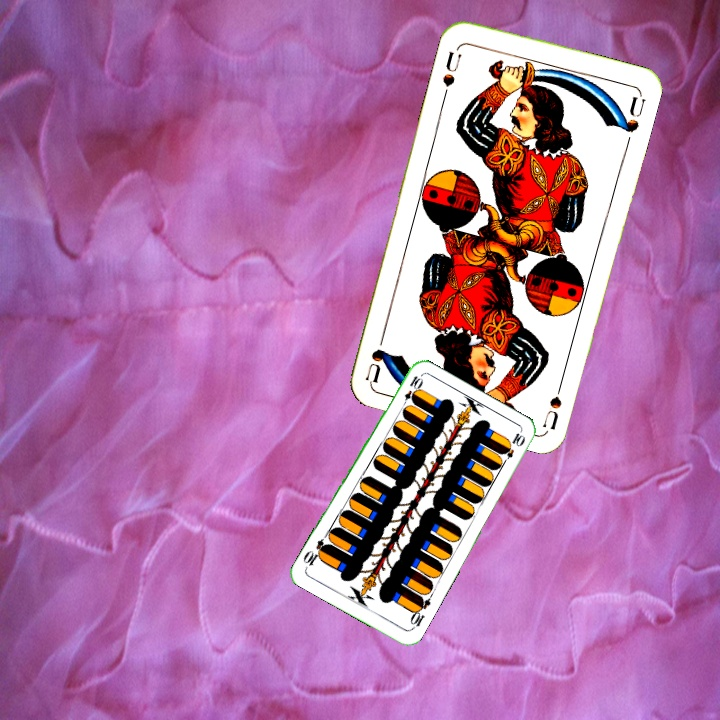E10: (406, 593, 433, 632), (398, 372, 424, 411)
SU: (539, 371, 567, 430), (438, 42, 464, 100)
